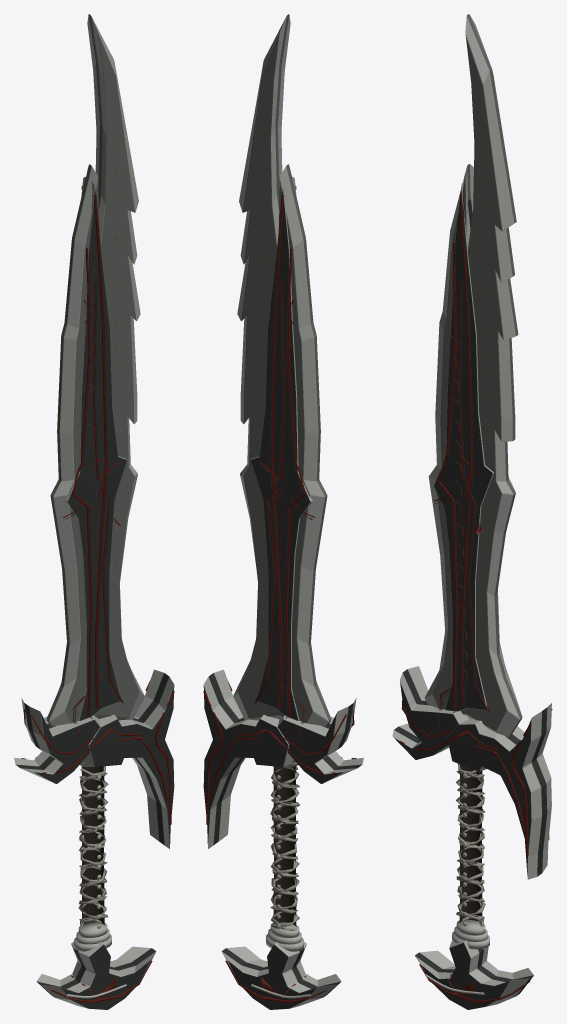
File: underWaterSword.glb
3 views of the same model, side by side, from view 1: azimuth 30°, elevation 25°; view 2: azimuth 150°, elevation 25°; view 3: azimuth 330°, elevation 25° (orthographic).
Parts seen in each view (by area): view 1: weapon; view 2: weapon; view 3: weapon.
Boxes of the visible parts, bbox=[...] form: weapon: bbox=[14, 14, 174, 1009]; weapon: bbox=[203, 14, 363, 1009]; weapon: bbox=[392, 14, 552, 1009].
Bounding box in the file's own units: 0.2155 × 1.37 × 0.0579.
